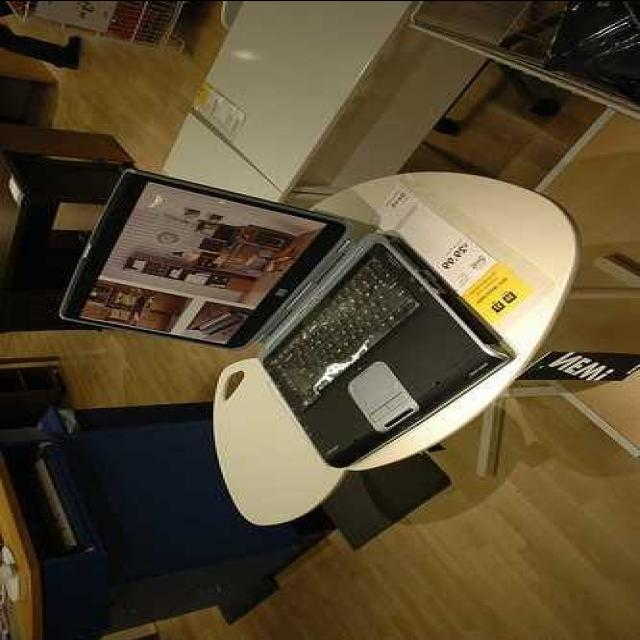laptop: (83, 183, 460, 457)
